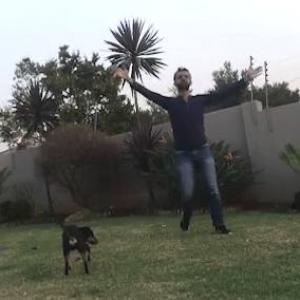takeoff: (122, 72, 248, 227)
